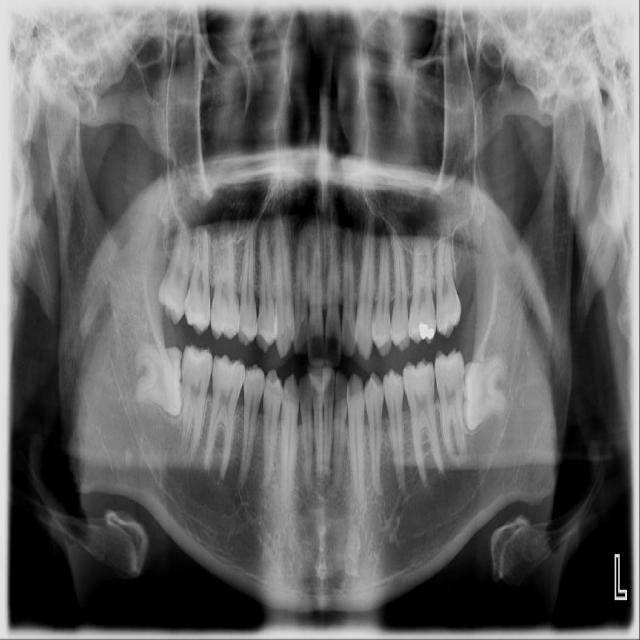Filling: (415, 321, 435, 342)
impacted tooth: (133, 344, 182, 418), (462, 357, 511, 427)
